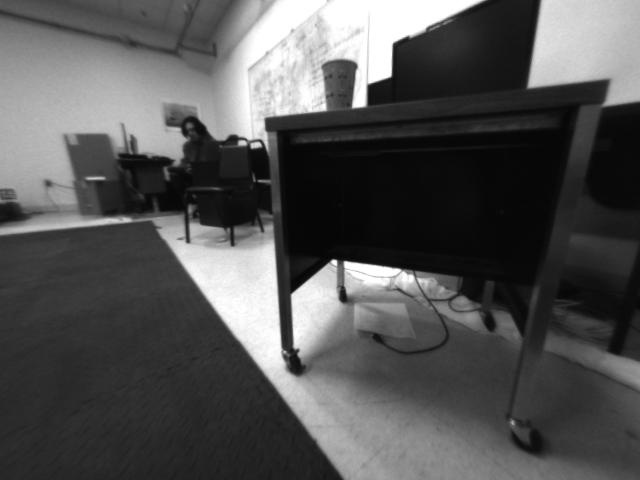coffee_cup: (317, 59, 359, 108)
